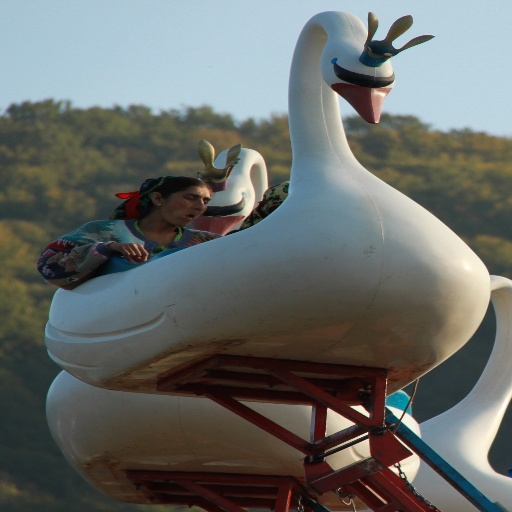hand: (87, 238, 162, 262)
